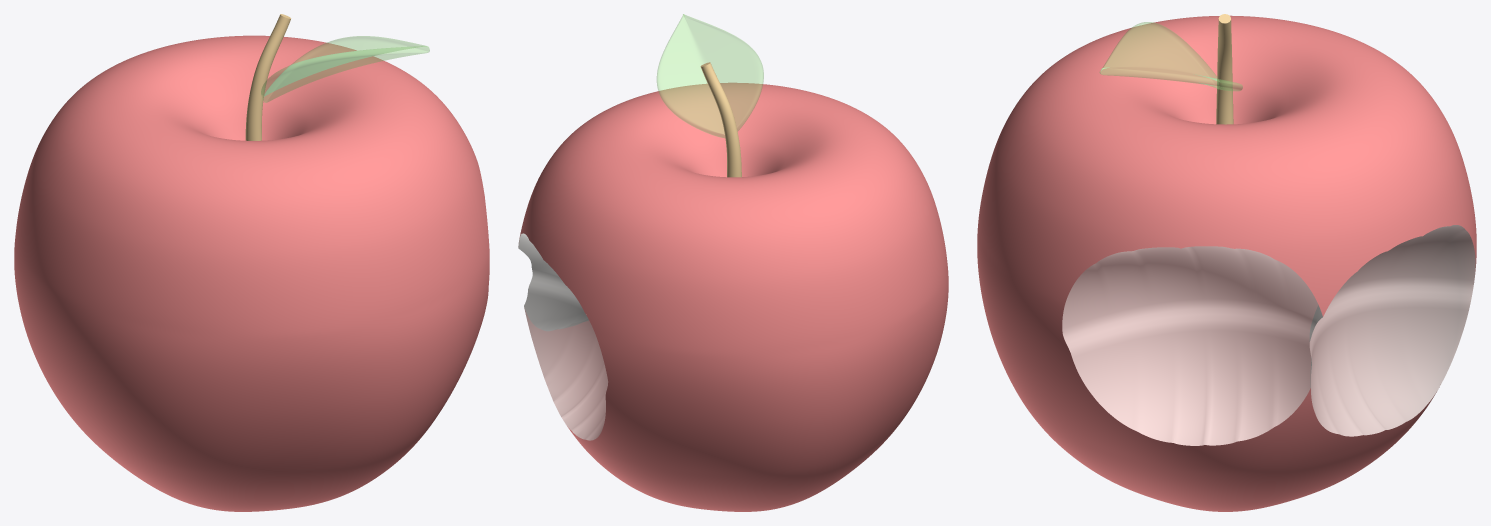
3 views of the same model, side by side, from view 1: azimuth 30°, elevation 25°; view 2: azimuth 150°, elevation 25°; view 3: azimuth 270°, elevation 25° (orthographic). The views are drawn at different scales.
Visible parts, largest first — view 1: Apple, Leaf, Stem; view 2: Apple, Leaf, Stem; view 3: Apple, Leaf, Stem.
Part boxes in pixels (left/top/right/bottom): Apple: left=14, top=35, right=489, bottom=511; Leaf: left=261, top=36, right=429, bottom=102; Stem: left=245, top=14, right=291, bottom=140; Apple: left=518, top=82, right=948, bottom=511; Leaf: left=657, top=14, right=763, bottom=137; Stem: left=700, top=62, right=741, bottom=177; Apple: left=977, top=15, right=1476, bottom=511; Leaf: left=1099, top=22, right=1242, bottom=90; Stem: left=1216, top=14, right=1233, bottom=124.
Bounding box in the file's own units: 1.96 × 2.15 × 2.04.
